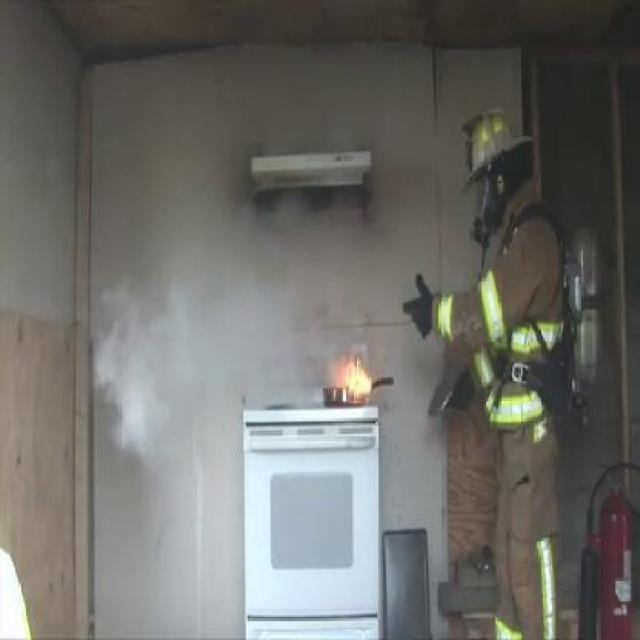fire: (312, 354, 374, 408)
smoke: (105, 300, 217, 458)
